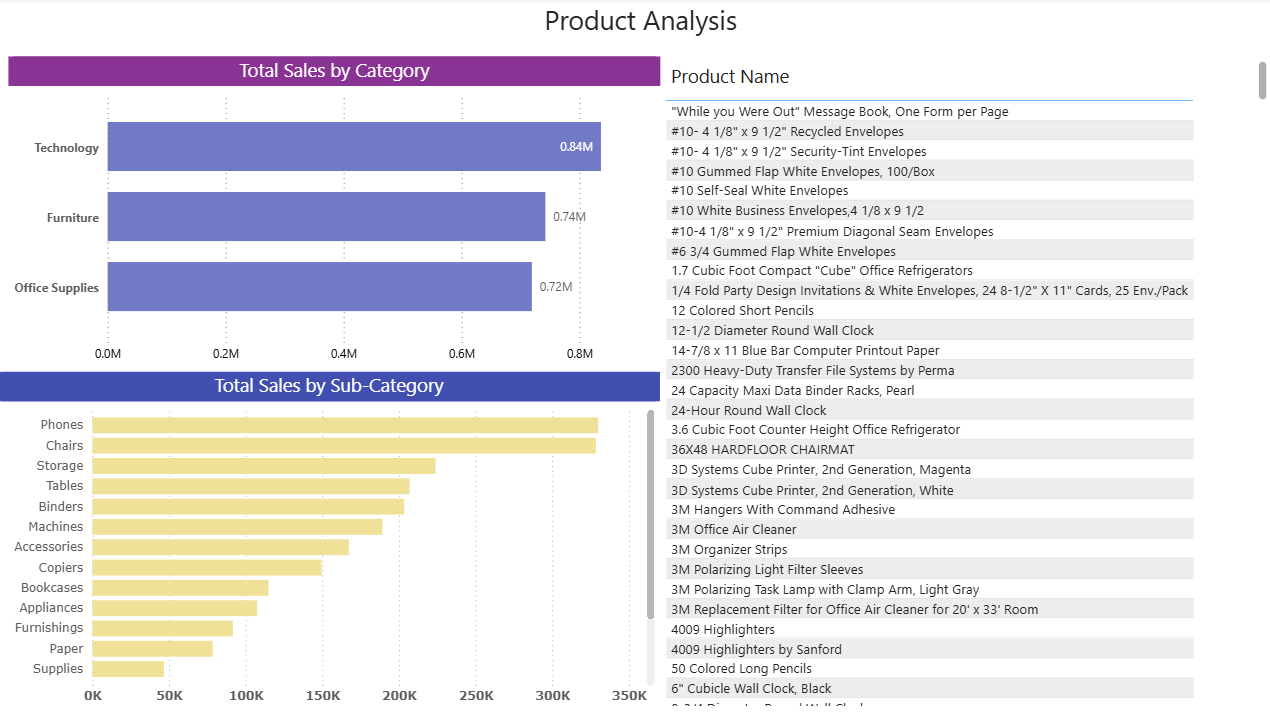

What the dashboard file says about the page in this screenshot:
{"tool":"powerbi","page":{"name":"Page 2","canvas":[1280,720],"ordinal":1},"visuals":[{"type":"textbox","box":[10,0,1270,60],"z":0},{"type":"barChart","fields":{"Y":["Sales_data.Total Sales"],"Category":["Sales_data.Category"]},"box":[10,60,655,316.7],"z":1000},{"type":"barChart","fields":{"Category":["Sales_data.Sub-Category"],"Y":["Sales_data.Total Sales"]},"box":[0,376.7,665,343.3],"z":2000},{"type":"tableEx","fields":{"Values":["Sales_data.Product Name"]},"box":[665,60,615,656.7],"z":3000}]}

Visuals, with their boxes in screenshot pixels (x1, y1, x2, y2), scaled from the page's 1280x720 canvas onto the 1270x713 screenshot:
textbox: x1=10, y1=0, x2=1269, y2=59
barChart - Sales_data.Total Sales x Sales_data.Category: x1=10, y1=59, x2=660, y2=373
barChart - Sales_data.Sub-Category x Sales_data.Total Sales: x1=0, y1=373, x2=660, y2=712
tableEx - Sales_data.Product Name: x1=660, y1=59, x2=1269, y2=710
